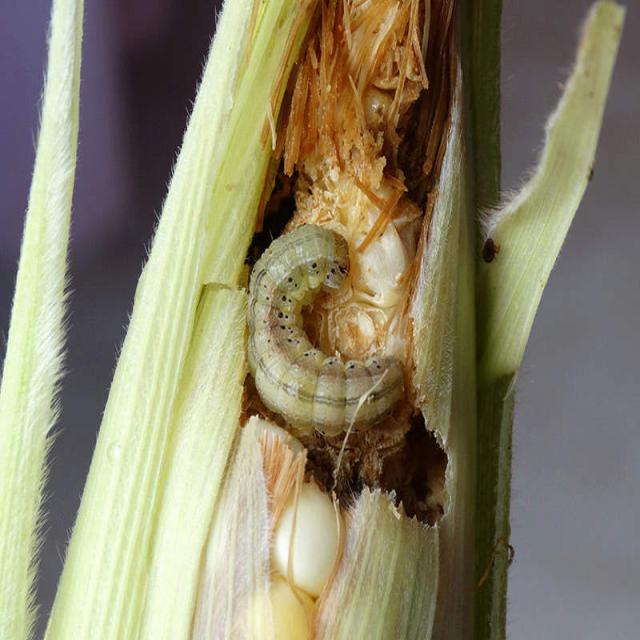Corn-earworm: (242, 223, 424, 442)
